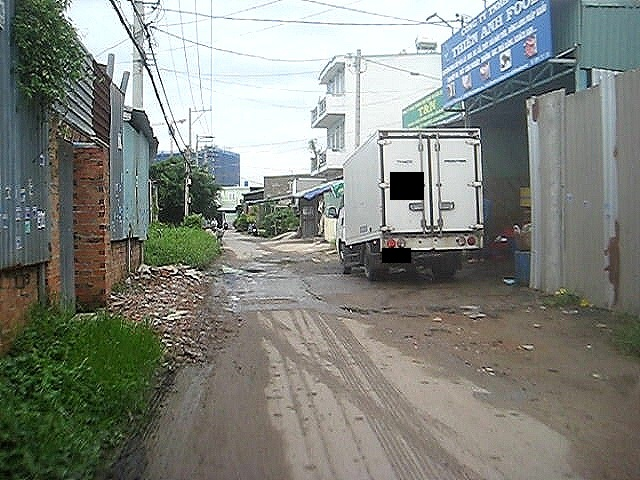hole: (210, 262, 265, 283), (269, 253, 317, 267)
